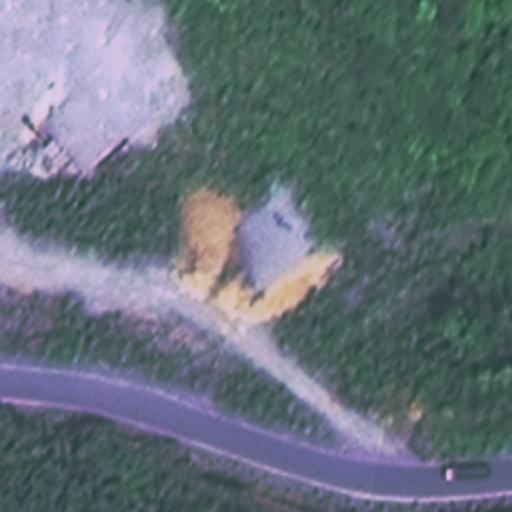landslide: (174, 179, 346, 325)
